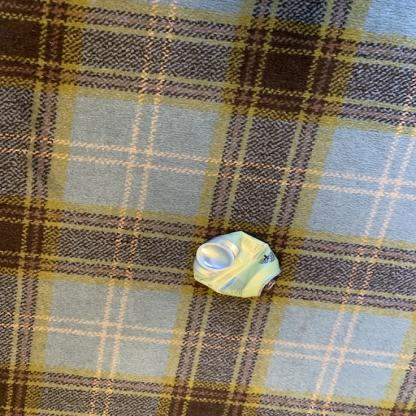trash: (190, 232, 281, 302)
